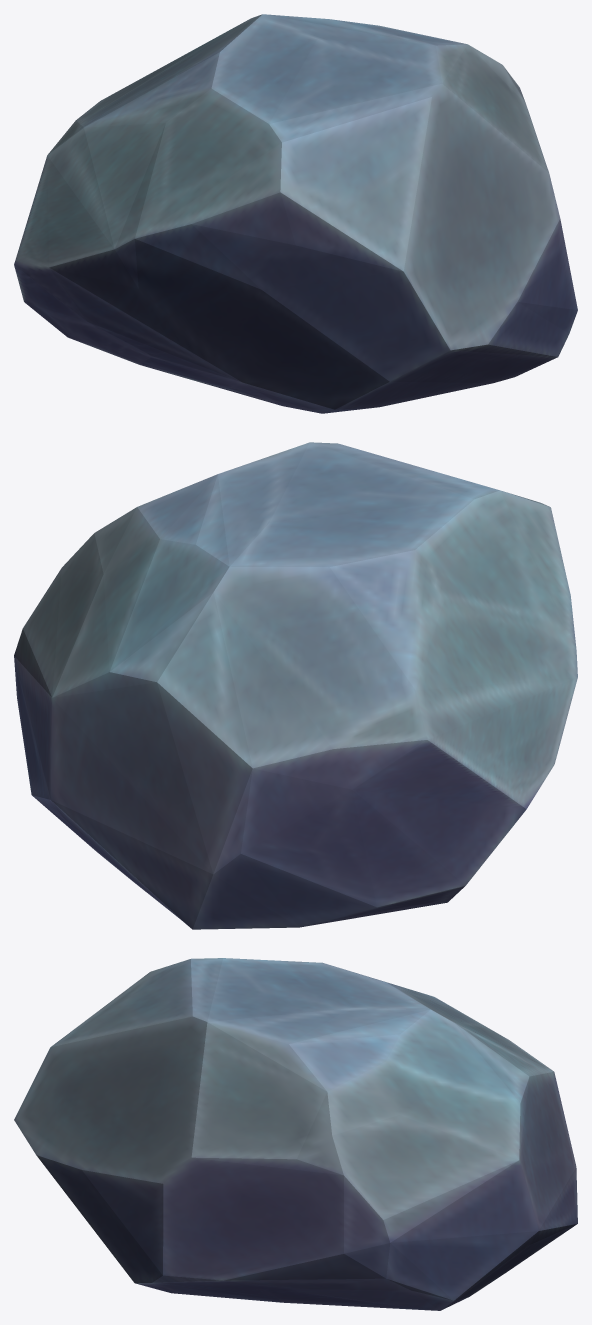
File: Rock1.FBX
3 renders of one model, top to bottom at view 1: azimuth 30°, elevation 25°; view 2: azimuth 150°, elevation 25°; view 3: azimuth 270°, elevation 25°, orthographic. The views are drawn at different scales.
Parts seen in each view (by area): view 1: Rock_01; view 2: Rock_01; view 3: Rock_01.
Boxes of the visible parts, x1,y1,x2,y2 form: Rock_01: [14, 14, 577, 413]; Rock_01: [14, 442, 577, 929]; Rock_01: [14, 958, 577, 1310].
Bounding box in the file's own units: 1.25 × 0.7018 × 1.42.
Materials: 1 (1 with a texture image).
